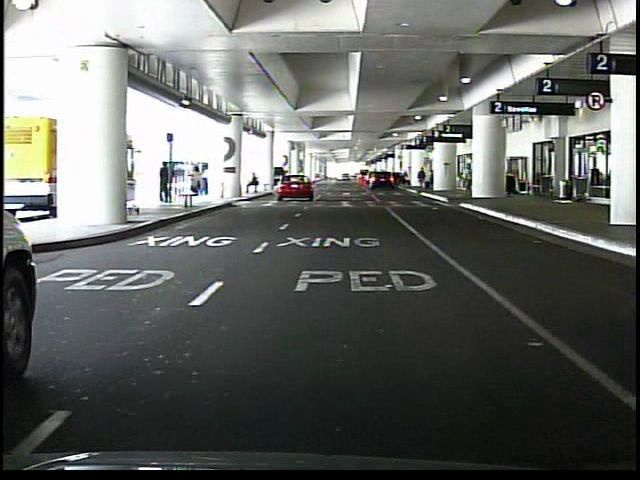person: (158, 163, 173, 206), (244, 172, 260, 196), (462, 162, 473, 196), (418, 166, 428, 192)
